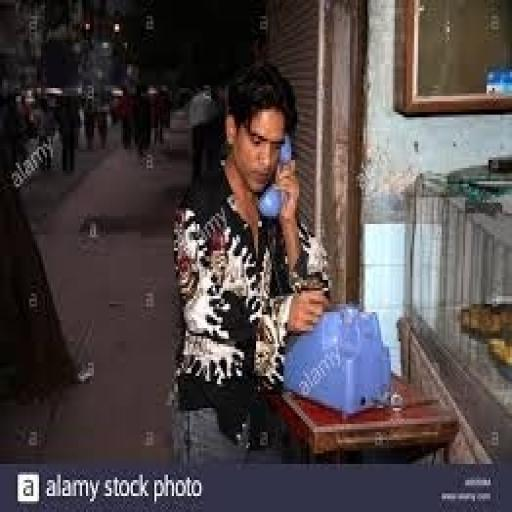calling: (168, 59, 332, 461)
